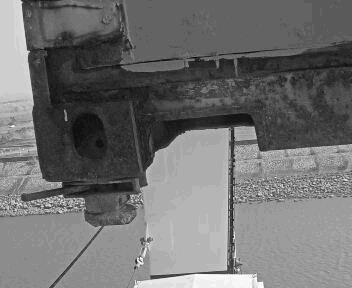twist_lock_1: (161, 131, 187, 157)
